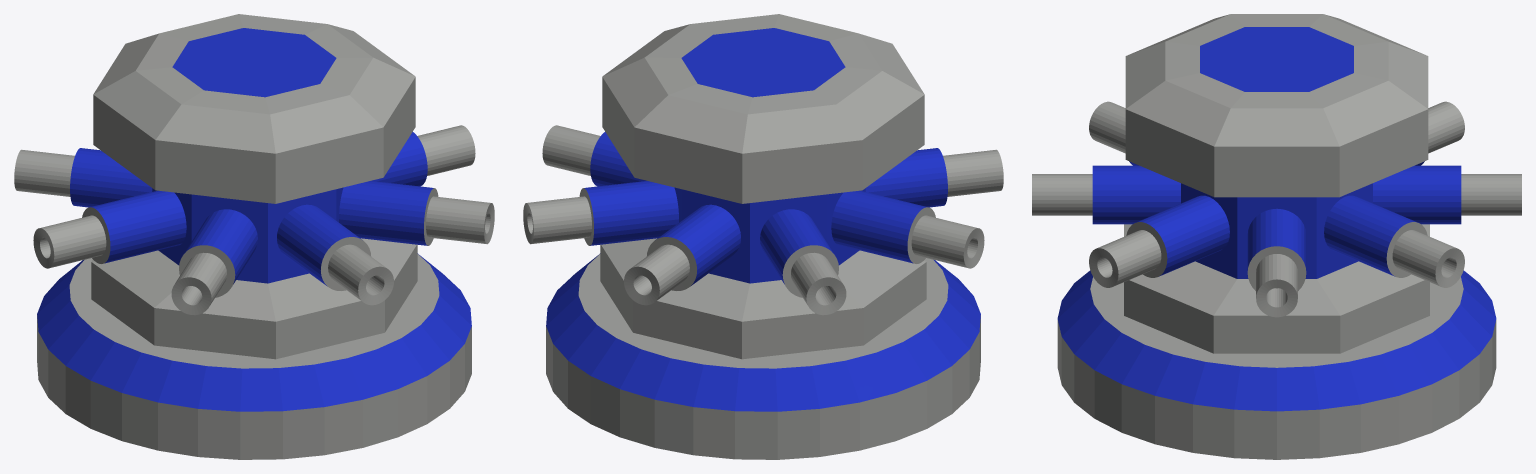
File: spikey_water.fbx
3 renders of one model, left to right at view 1: azimuth 30°, elevation 25°; view 2: azimuth 150°, elevation 25°; view 3: azimuth 270°, elevation 25°, orthographic.
Visible parts, largest first — view 1: Circle; view 2: Circle; view 3: Circle.
Boxes of the visible parts, box(x1,y1,x2,y2) form: Circle: box(14, 14, 494, 459); Circle: box(523, 14, 1003, 459); Circle: box(1032, 14, 1521, 459).
Bounding box in the file's own units: 223 × 155 × 223.
Materials: 1 (1 with a texture image).
